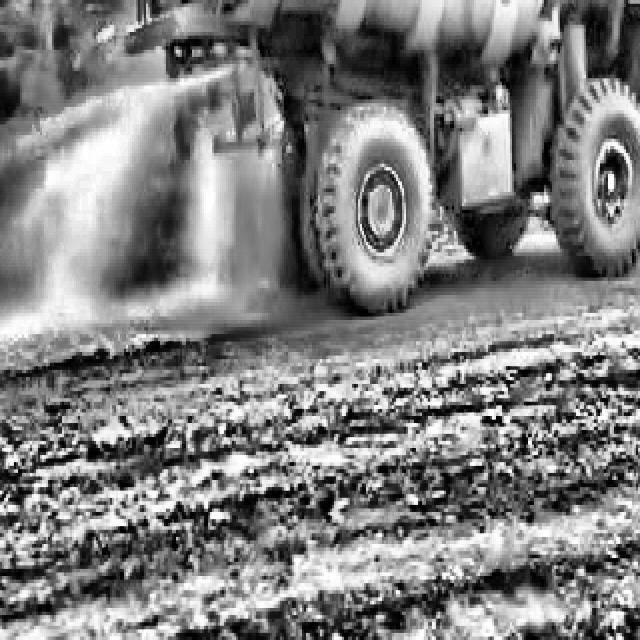dump_truck: (162, 0, 640, 274)
